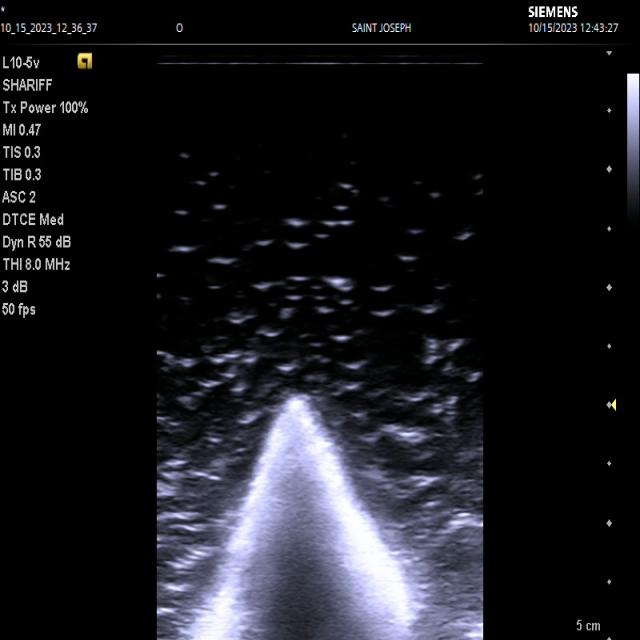tissue: (183, 394, 423, 640)
